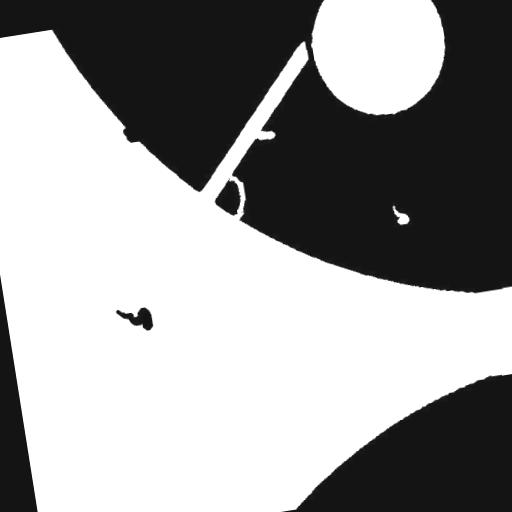copper: (106, 296, 162, 342)
mousebite: (242, 120, 284, 150)
open: (210, 163, 257, 232)
pin-hole: (382, 194, 418, 234)
short: (294, 24, 324, 70)
spur: (112, 115, 148, 151)
